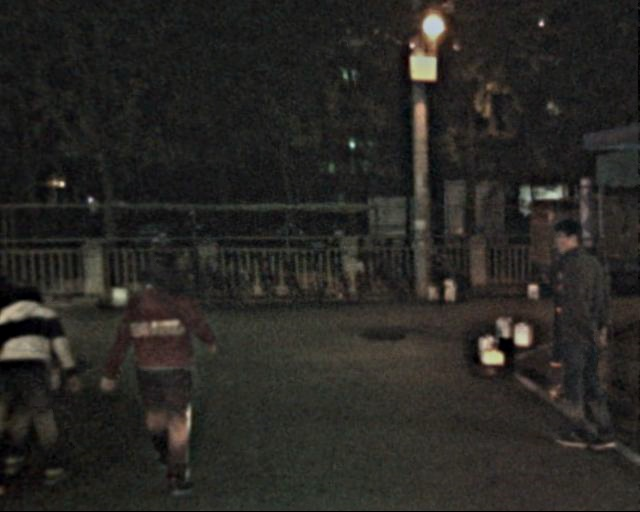person: (118, 243, 219, 497), (545, 215, 619, 448), (3, 267, 84, 475)
